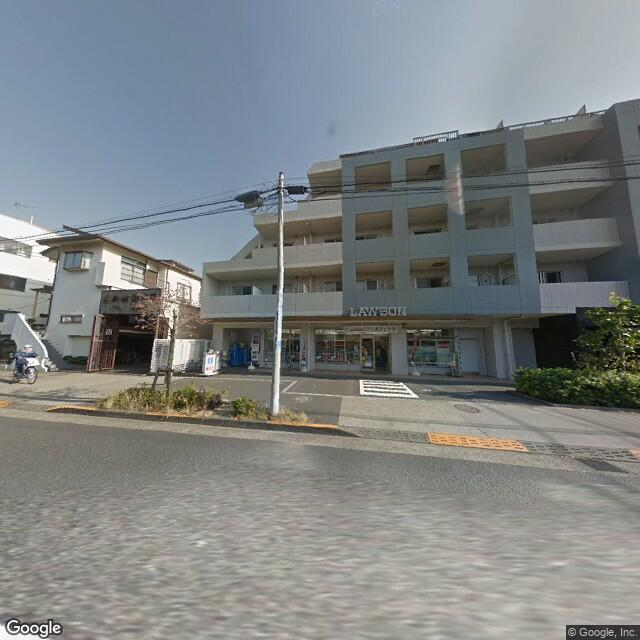lawson: (343, 300, 413, 322)
